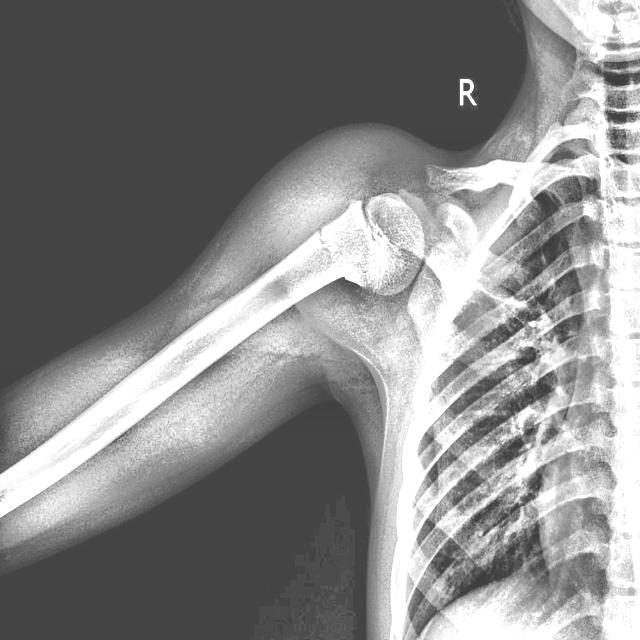line: (318, 227, 344, 272)
